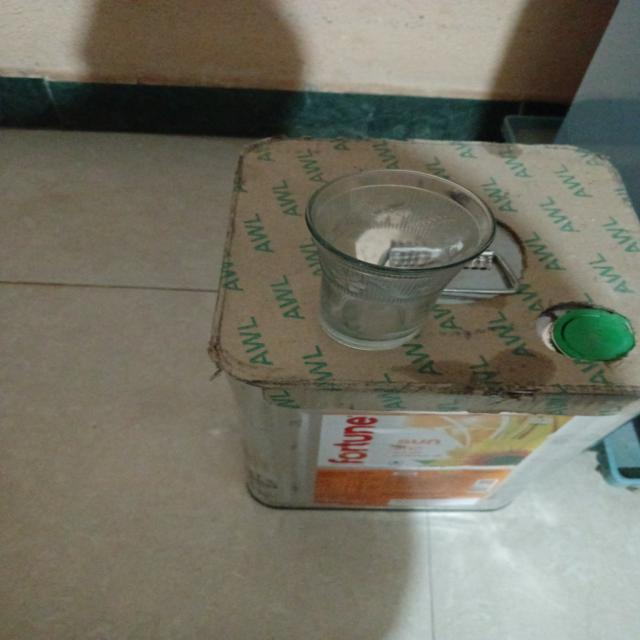Glass: (298, 164, 499, 355)
